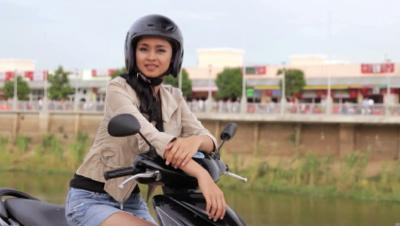With Helmet: (121, 13, 189, 82)
